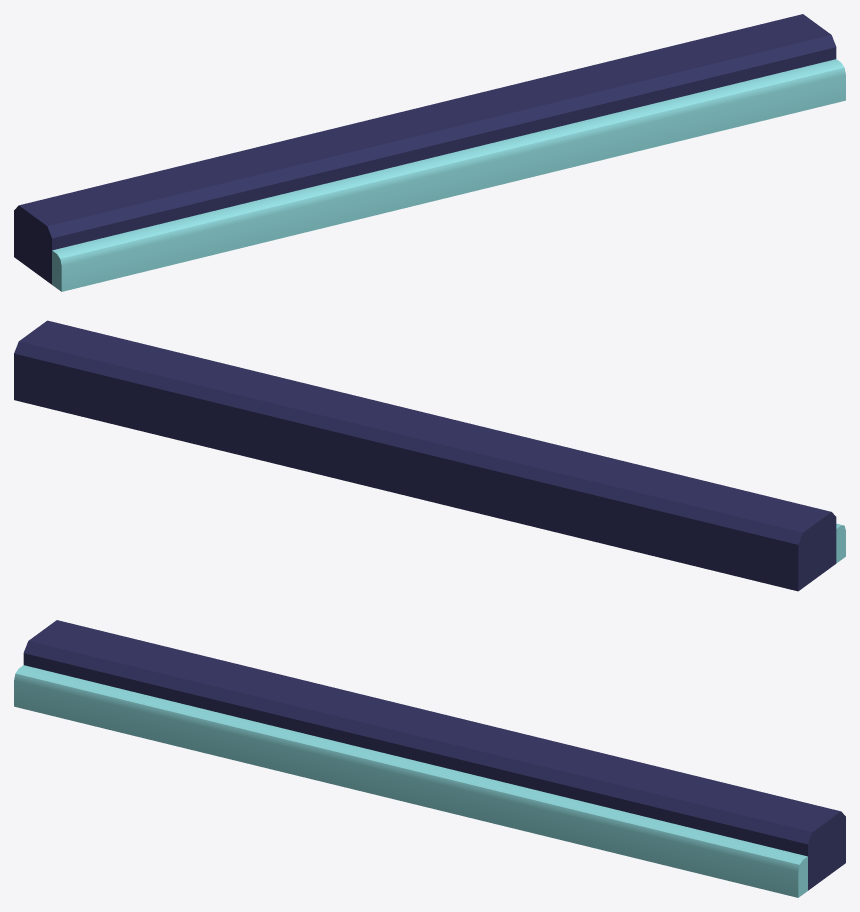
File: Street_Edge.fbx
3 renders of one model, top to bottom at view 1: azimuth 30°, elevation 25°; view 2: azimuth 150°, elevation 25°; view 3: azimuth 330°, elevation 25°, orthographic.
Visible parts, largest first — view 1: pCube6; view 2: pCube6; view 3: pCube6.
Part boxes in pixels (x1,y1,x2,y2): pCube6: [14, 14, 845, 291]; pCube6: [14, 320, 845, 591]; pCube6: [14, 620, 845, 897].
Bounding box in the file's own units: 11.88 × 0.7986 × 1.25.
